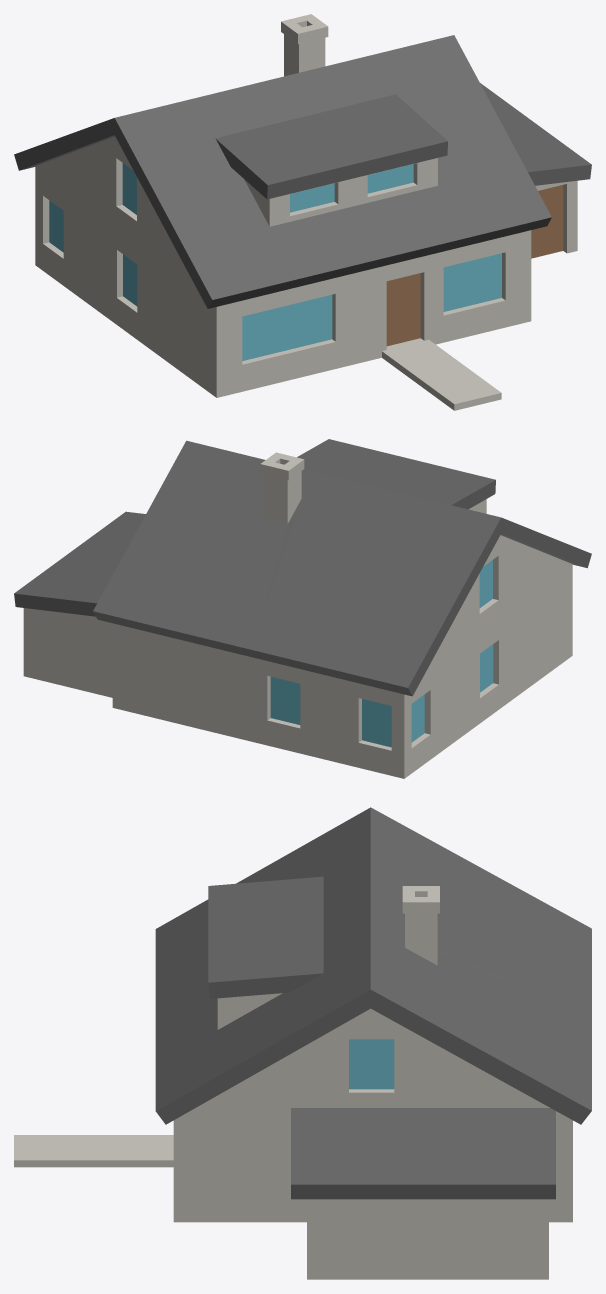
The model's file is house_small_garage.gltf.
The picture shows the model from 3 angles, top to bottom: view 1: azimuth 30°, elevation 25°; view 2: azimuth 150°, elevation 25°; view 3: azimuth 270°, elevation 25°; orthographic projection. The views are drawn at different scales.
Visible parts, largest first — view 1: house-small-garage_Cube.000, doorway walkup.001, Chimney; view 2: house-small-garage_Cube.000, Chimney; view 3: house-small-garage_Cube.000, doorway walkup.001, Chimney.
Boxes of the visible parts, x1,y1,x2,y2 form: house-small-garage_Cube.000: (14, 35, 591, 397); doorway walkup.001: (382, 338, 501, 410); Chimney: (281, 14, 328, 76); house-small-garage_Cube.000: (14, 439, 591, 778); Chimney: (260, 452, 304, 523); house-small-garage_Cube.000: (155, 807, 591, 1279); doorway walkup.001: (14, 1135, 173, 1167); Chimney: (402, 886, 439, 965).
Size of the model in its own units: 7.01 by 3.69 by 7.24.
1 material, 1 textured.
